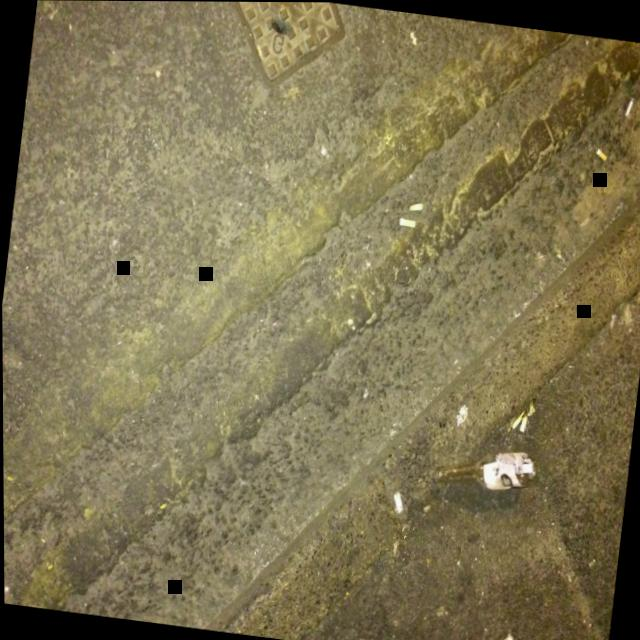Cigarette: (510, 408, 526, 428), (392, 490, 401, 511), (398, 216, 414, 226), (528, 396, 535, 415), (519, 412, 526, 429), (409, 202, 422, 208)
Glass bottle: (435, 449, 537, 488)
